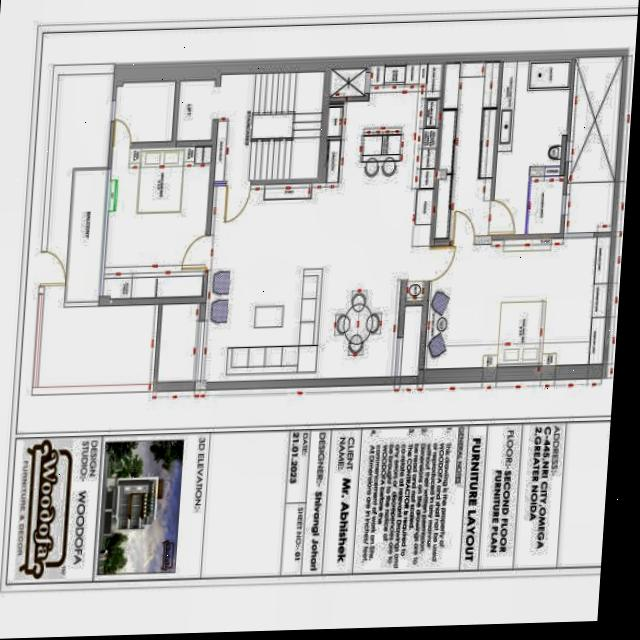room: (201, 177, 327, 390), (421, 238, 612, 369), (319, 57, 440, 256), (100, 141, 209, 303), (491, 54, 572, 238), (215, 65, 323, 188), (435, 61, 498, 242), (567, 53, 622, 236), (320, 268, 394, 381), (113, 77, 173, 147), (157, 302, 197, 386), (177, 79, 213, 143)
